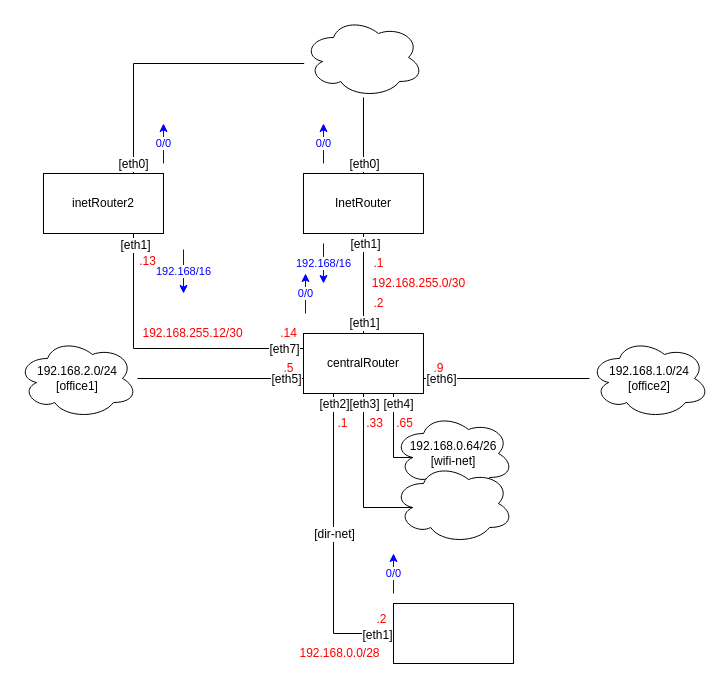
Image size: 727x681. Some labels were removed from this diagram. Each missing label, with the box of its shape:
192.168.0.32/28 [hw-net]: (392, 462, 514, 544)
centralServer: (392, 602, 514, 664)
Internet: (302, 16, 424, 98)
